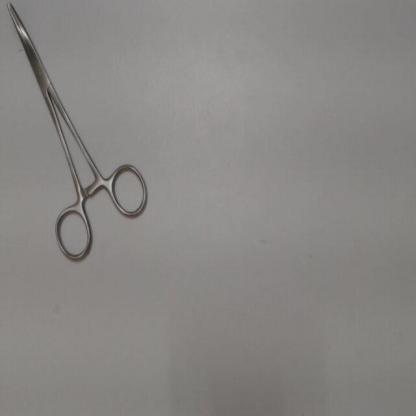Crile Artery Forceps: (3, 0, 152, 270)
